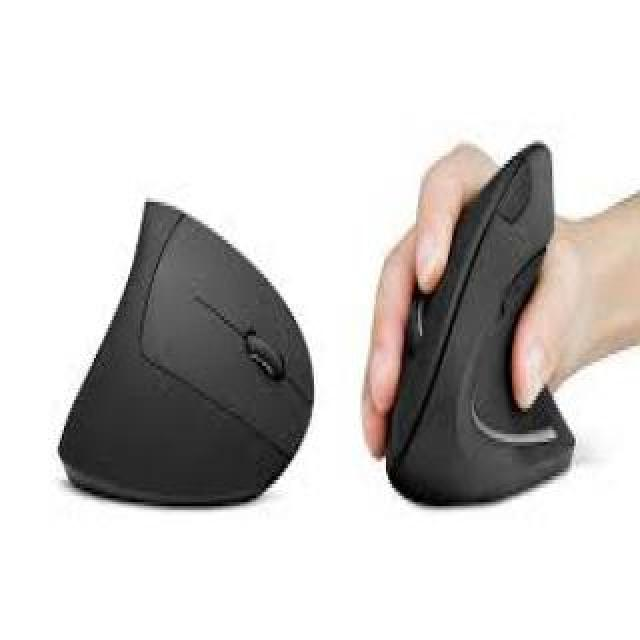mouse: (41, 189, 335, 516), (365, 140, 603, 511)
